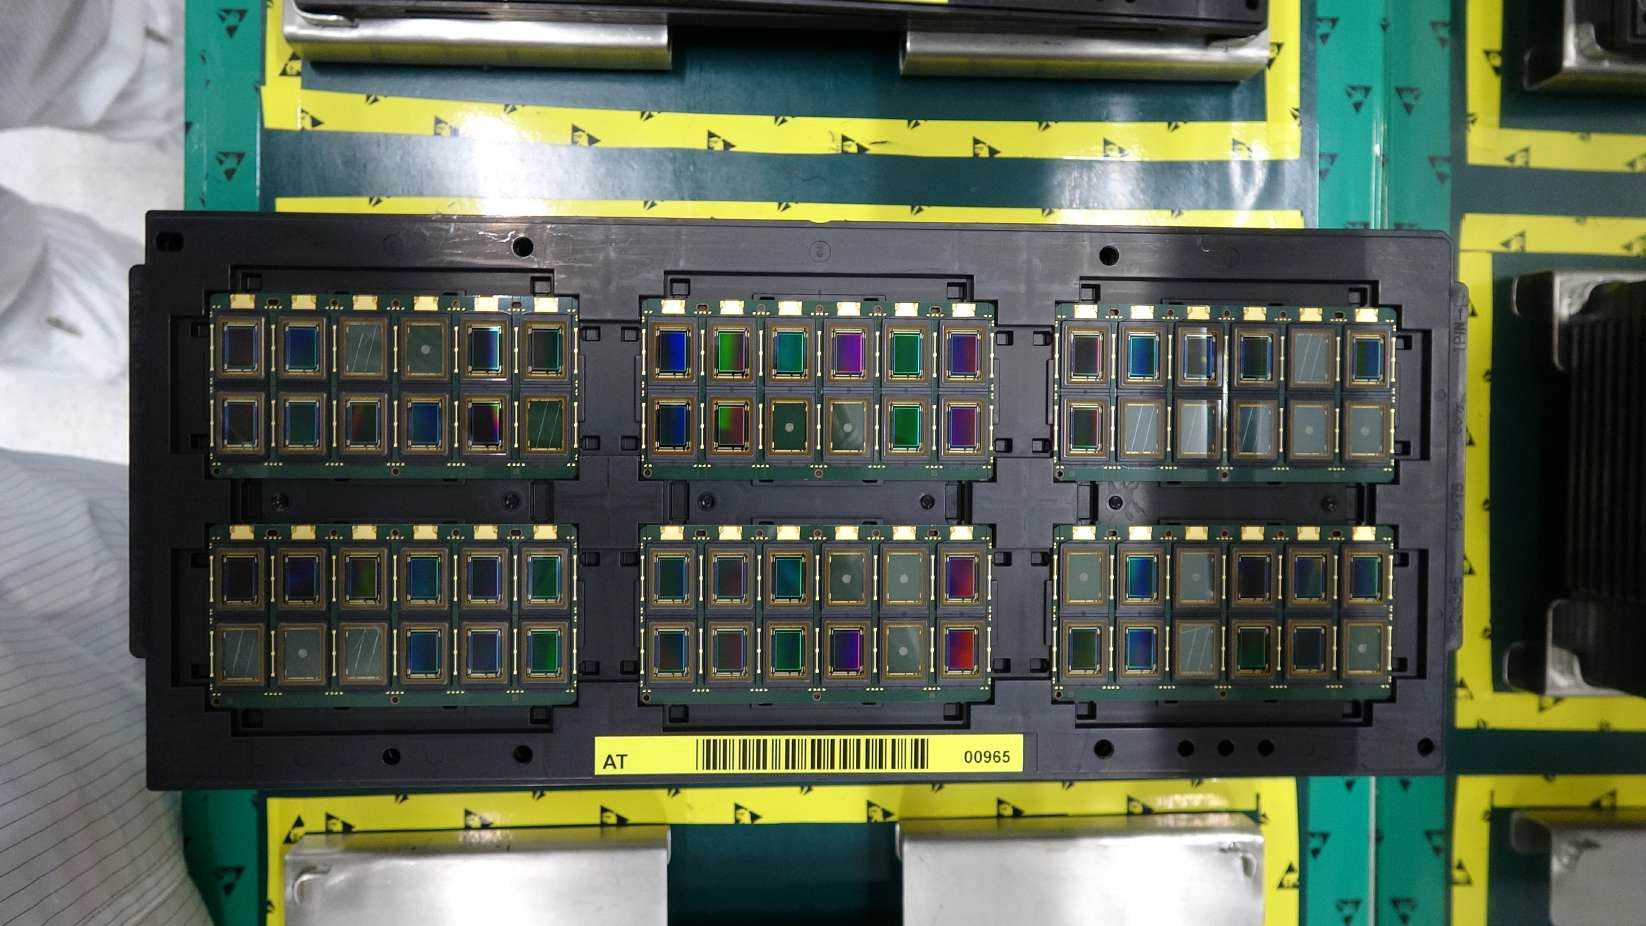Bad_mark_from_BMS_mold: (518, 388, 570, 457), (214, 622, 267, 686), (1228, 396, 1281, 459), (337, 622, 389, 684), (338, 315, 389, 378), (1288, 324, 1336, 388), (1116, 397, 1166, 456), (1172, 618, 1220, 677), (1173, 399, 1219, 458)
Bad_mark_from_Maker: (275, 621, 327, 689), (1059, 544, 1111, 608), (880, 618, 932, 682), (399, 317, 451, 380), (881, 544, 932, 608), (822, 392, 873, 456), (765, 392, 816, 456), (1173, 544, 1223, 608), (823, 544, 873, 608), (1340, 616, 1391, 676), (1287, 396, 1336, 457), (1343, 399, 1391, 460)
